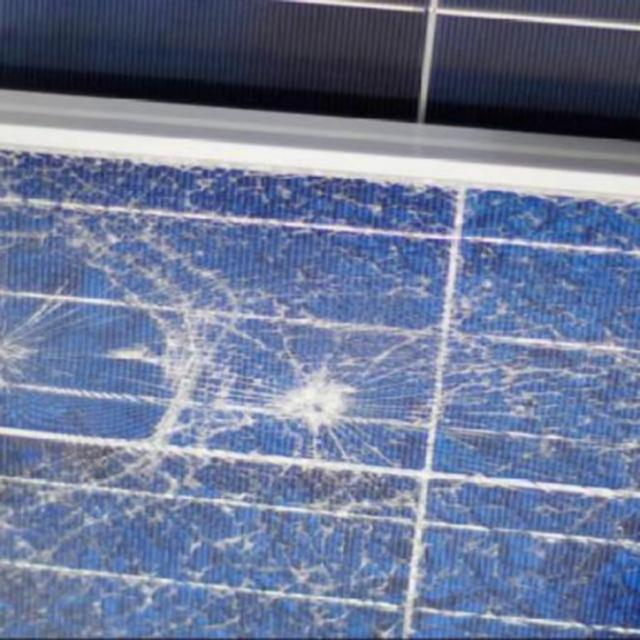cracked: (1, 154, 638, 637)
